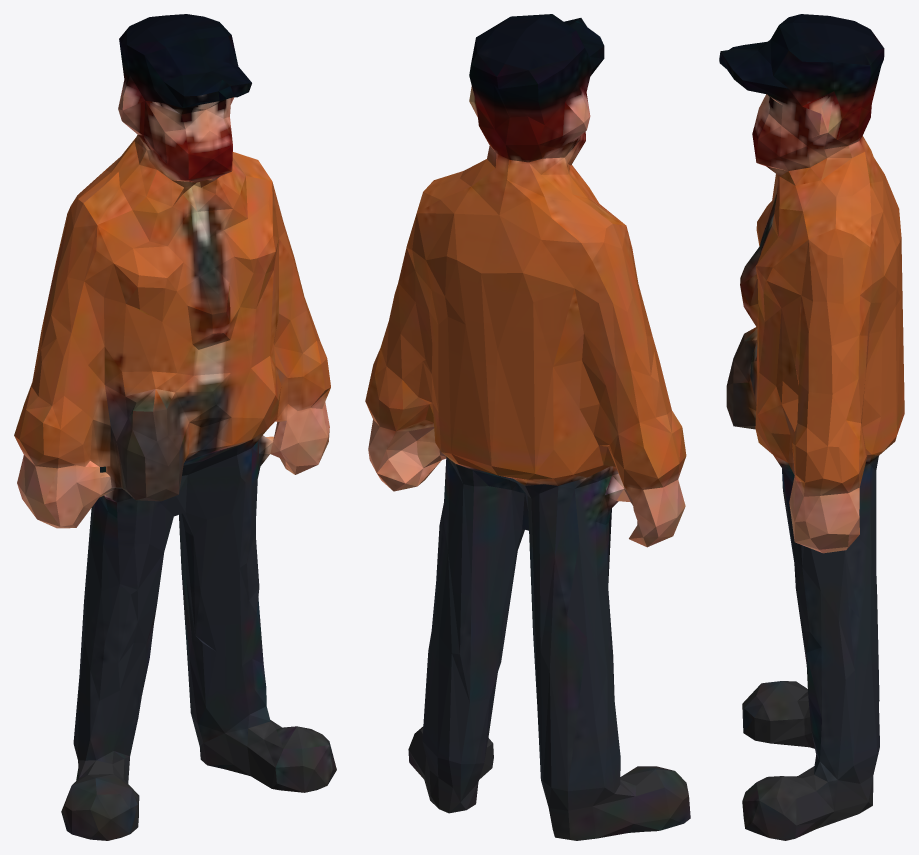
Rendered from habitant-loin.glb.
3 renders of one model, left to right at view 1: azimuth 30°, elevation 25°; view 2: azimuth 150°, elevation 25°; view 3: azimuth 270°, elevation 25°, orthographic. The views are drawn at different scales.
Parts seen in each view (by area): view 1: habitant; view 2: habitant; view 3: habitant.
Part boxes in pixels (x1,y1,x2,y2): habitant: (14,14,336,840); habitant: (365,14,690,840); habitant: (719,14,904,840).
Size of the model in its own units: 0.4169 by 1.01 by 0.2235.
Materials: 1 (1 with a texture image).
